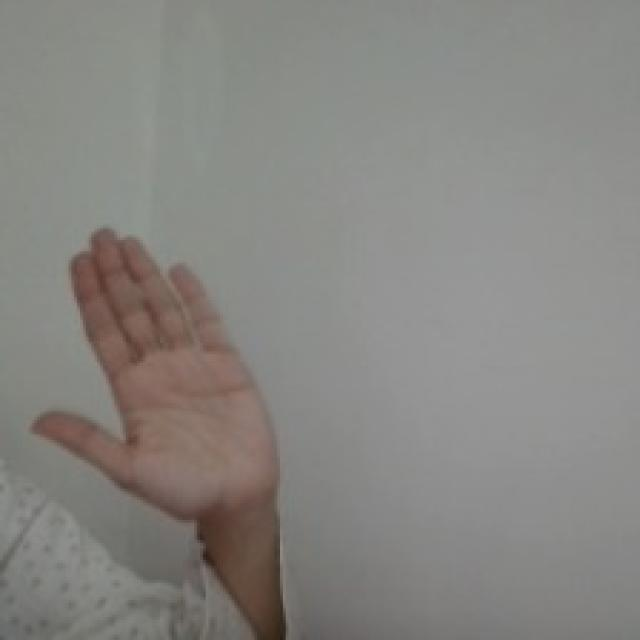Hello: (26, 220, 287, 520)
